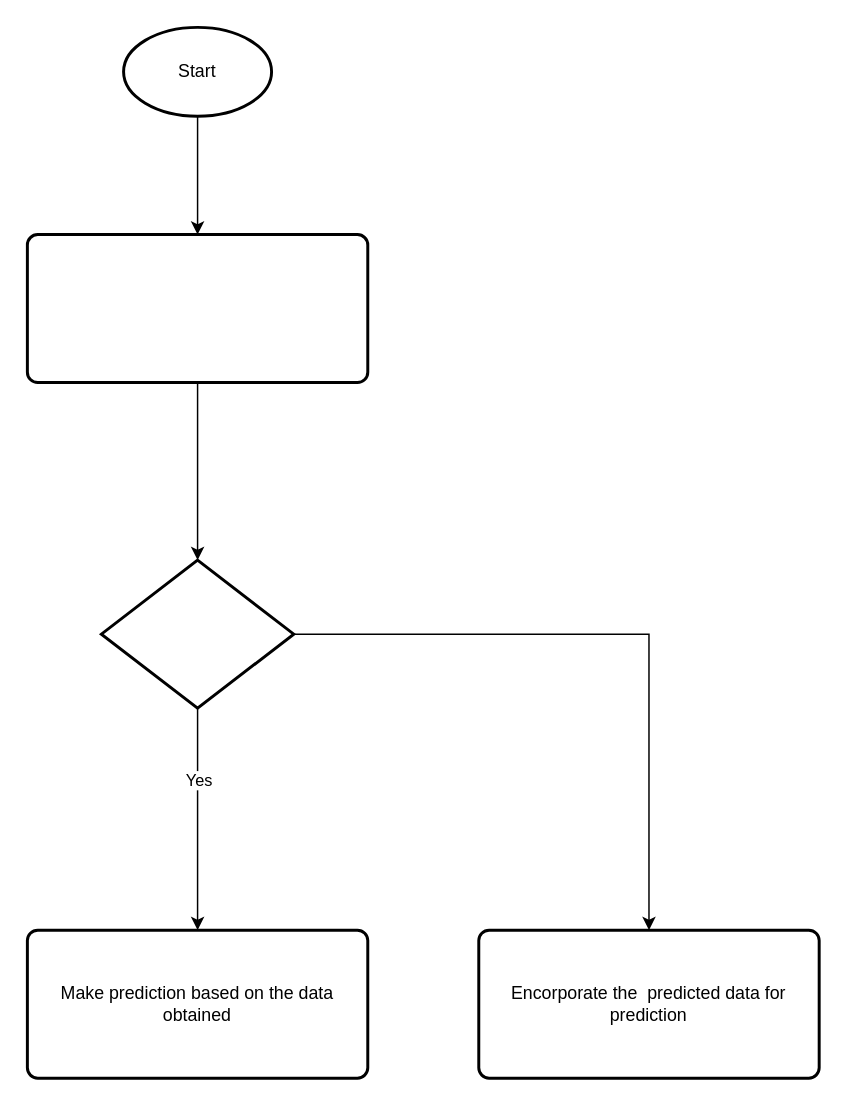
The diagram is 845 pixels wide and 1104 high, and some of its shapes have lost their labels. The centre of each missing label's shape, as x and y in pixels:
"Is first prediction?" goes at (x=197, y=633).
"Take last( window_size) values from train set" goes at (x=197, y=307).
